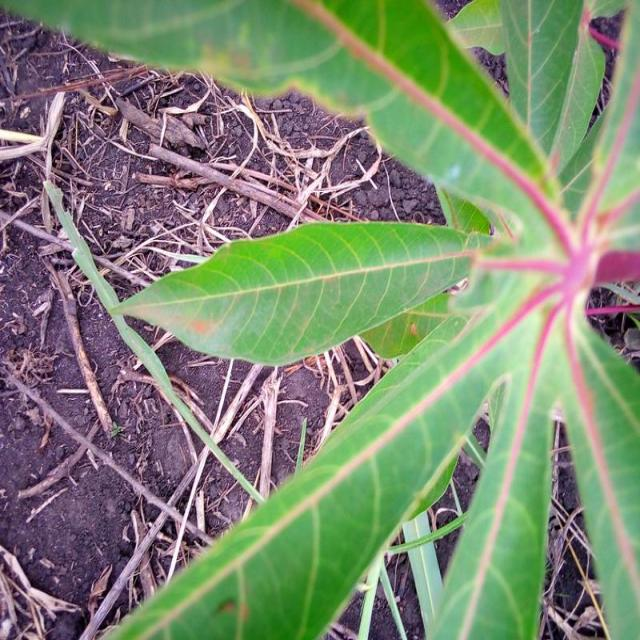cassava leaf: (9, 0, 638, 638), (111, 216, 488, 367)
